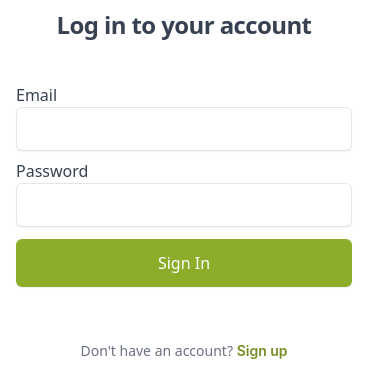
Test: Signin Component › displays error message on signin failure with unknown error
Type "john@example.com" into the field labelled "Email" at {"x": 184, "y": 129}, box x1=16 y1=107 x2=352 y2=151
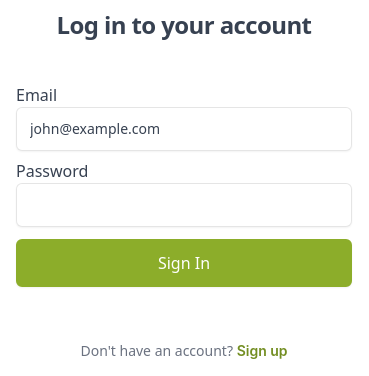
Type "password123" into the password field labelled "Password" at {"x": 184, "y": 205}, box x1=16 y1=183 x2=352 y2=227
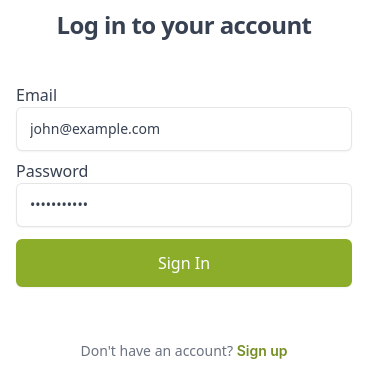
Click the button "Sign In" at {"x": 184, "y": 263}, box x1=16 y1=239 x2=352 y2=287
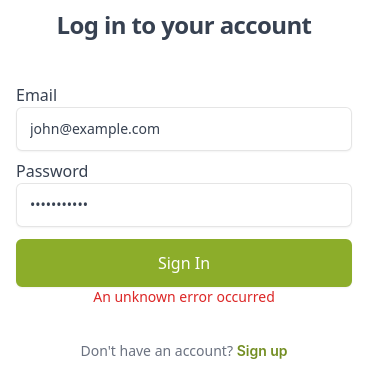
Check: the text "An unknown error occurred" is shown, box x1=93 y1=287 x2=275 y2=306
